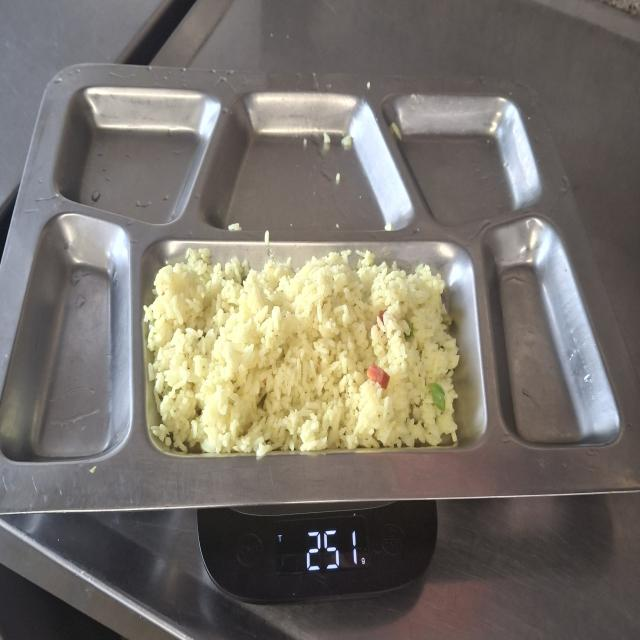Pulao: (141, 242, 468, 458)
